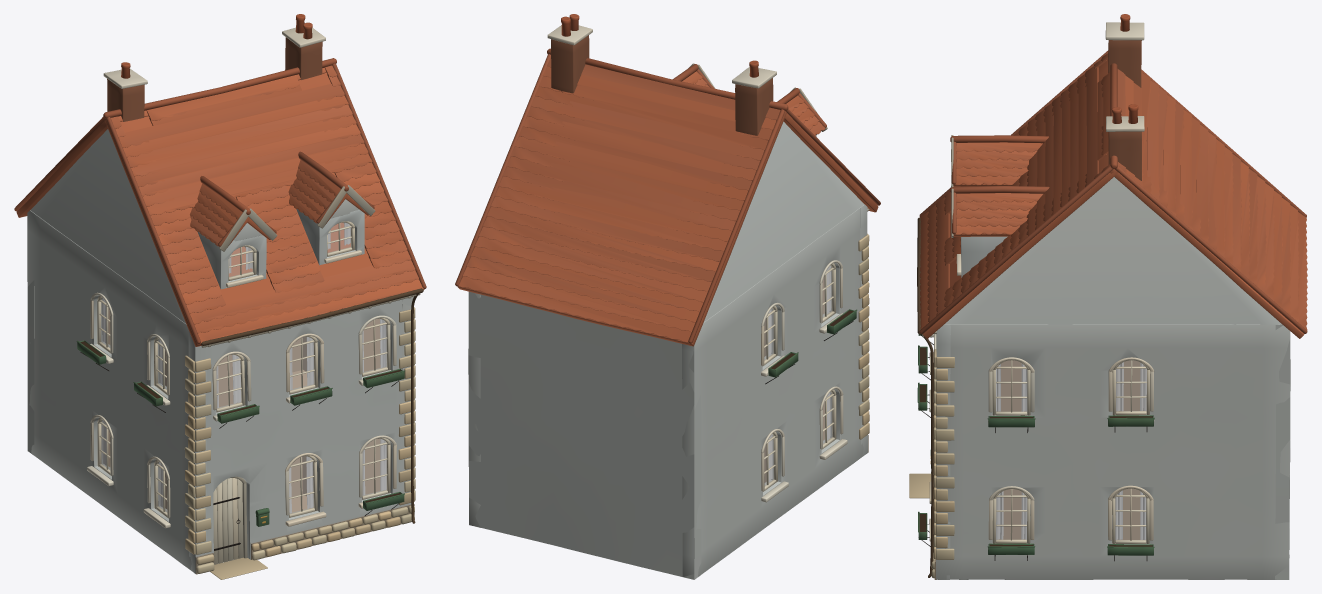
Rendered from GateStreet_Bend3.glb.
3 renders of one model, left to right at view 1: azimuth 30°, elevation 25°; view 2: azimuth 150°, elevation 25°; view 3: azimuth 270°, elevation 25°, orthographic. The views are drawn at different scales.
Visible parts, largest first — view 1: Sammel Putz, Sammel Stein, Sammel Lack, Glas, Sammel Putz innen, Vorhang Leinen, Sammel Ziegel, Sammel Metall; view 2: Sammel Putz, Sammel Stein, Sammel Ziegel, Sammel Lack, Glas, Vorhang Leinen; view 3: Sammel Putz, Sammel Stein, Sammel Lack, Glas, Sammel Putz innen, Sammel Ziegel, Vorhang Leinen, Sammel Metall.
Boxes of the visible parts, x1,y1,x2,y2 form: Sammel Putz: (27, 14, 414, 574); Sammel Stein: (14, 58, 426, 579); Sammel Lack: (76, 185, 420, 564); Glas: (101, 223, 386, 513); Sammel Putz innen: (108, 308, 380, 512); Vorhang Leinen: (102, 223, 386, 512); Sammel Ziegel: (107, 37, 322, 121); Sammel Metall: (80, 288, 423, 550); Sammel Putz: (468, 14, 868, 579); Sammel Stein: (455, 48, 880, 439); Sammel Ziegel: (551, 35, 773, 135); Sammel Lack: (688, 63, 869, 491); Glas: (764, 265, 832, 485); Vorhang Leinen: (768, 266, 830, 480); Sammel Putz: (919, 14, 1290, 579); Sammel Stein: (909, 50, 1307, 578); Sammel Lack: (917, 135, 1154, 555); Glas: (996, 360, 1146, 539); Sammel Putz innen: (999, 360, 1140, 539); Sammel Ziegel: (1108, 40, 1141, 180); Vorhang Leinen: (996, 362, 1146, 539); Sammel Metall: (917, 217, 1147, 577).
Size of the model in its own units: 6.83 by 11.59 by 9.02.
